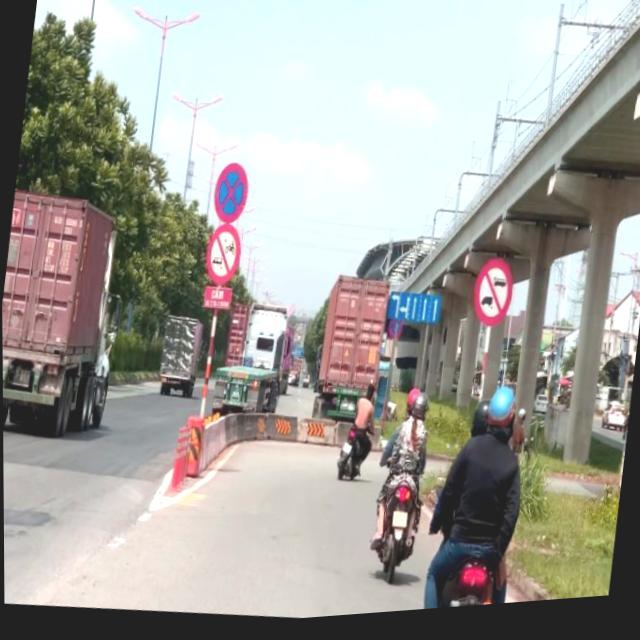Cam dung xe va do xe: (209, 162, 252, 230), (385, 320, 403, 347)
